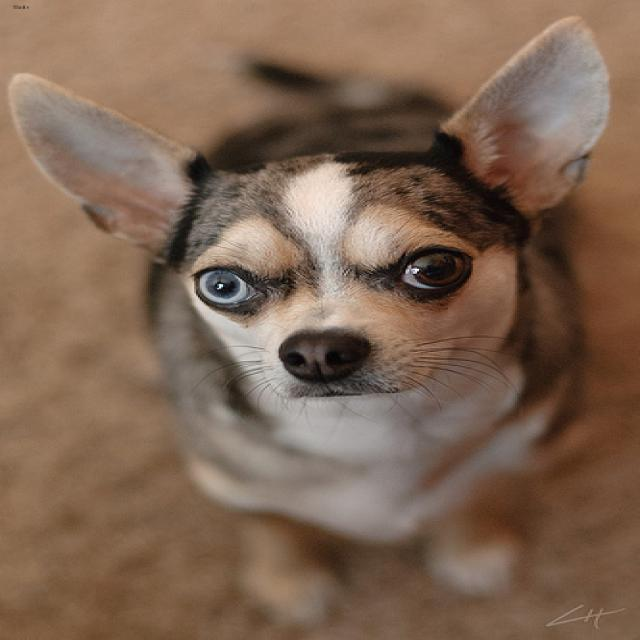dog-chihuahua: (2, 5, 621, 634)
